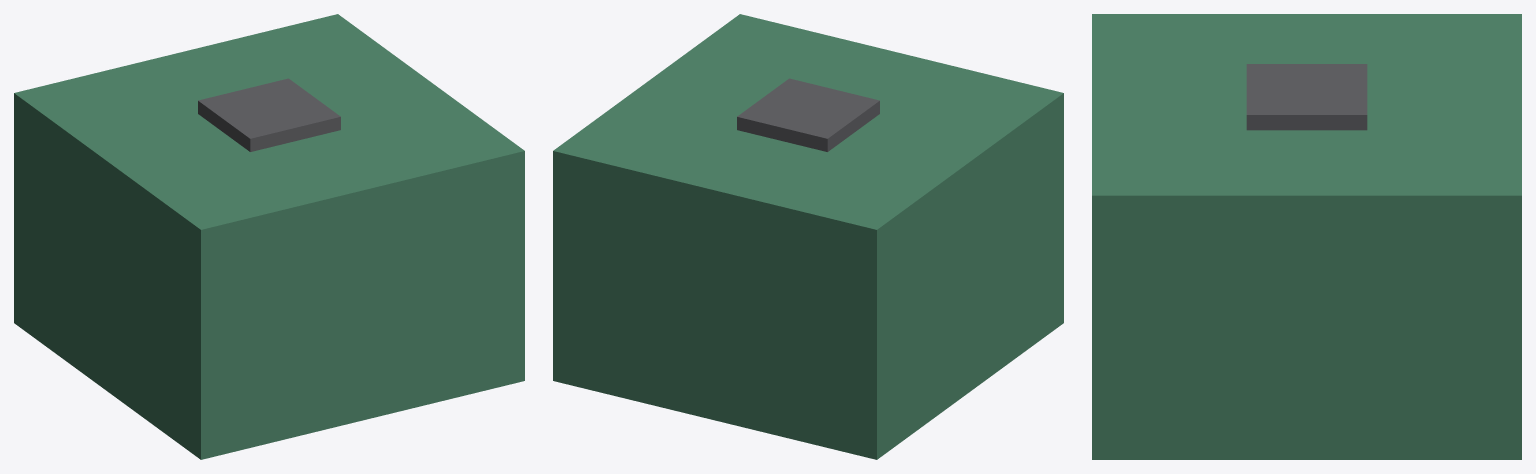
The model's file is 28byj-48.glb.
3 views of the same model, side by side, from view 1: azimuth 30°, elevation 25°; view 2: azimuth 150°, elevation 25°; view 3: azimuth 270°, elevation 25° (orthographic). The views are drawn at different scales.
Parts seen in each view (by area): view 1: 28byj-48-pcb, 28byj-48-ic; view 2: 28byj-48-pcb, 28byj-48-ic; view 3: 28byj-48-pcb, 28byj-48-ic.
Boxes of the visible parts, box(x1,y1,x2,y2) form: 28byj-48-pcb: box(14, 14, 524, 459); 28byj-48-ic: box(198, 78, 340, 151); 28byj-48-pcb: box(553, 14, 1063, 459); 28byj-48-ic: box(737, 78, 879, 151); 28byj-48-pcb: box(1092, 14, 1521, 459); 28byj-48-ic: box(1246, 64, 1367, 130).
Size of the model in its own units: 0.028 by 0.0201 by 0.028.
